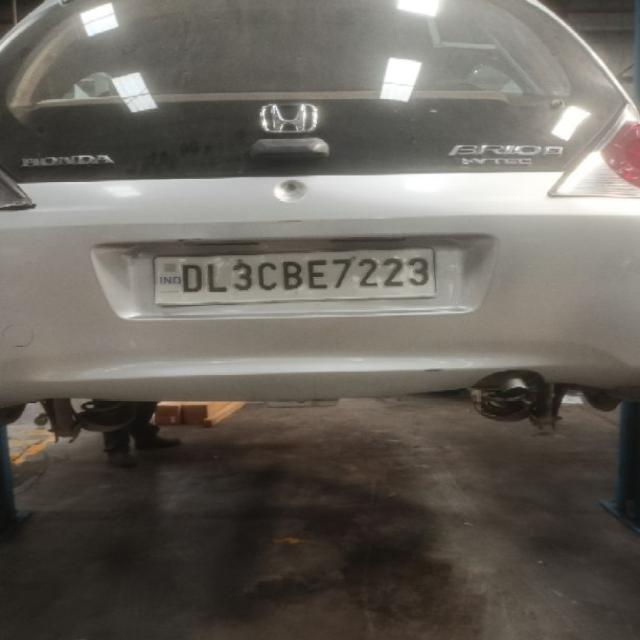license_plate: (151, 246, 438, 306)
